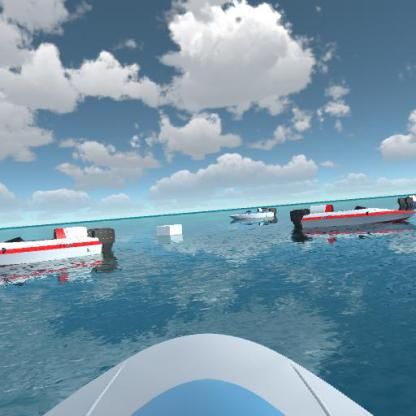usv1: (229, 199, 280, 228)
usv3: (0, 222, 122, 276), (284, 201, 416, 239), (393, 189, 416, 212)
